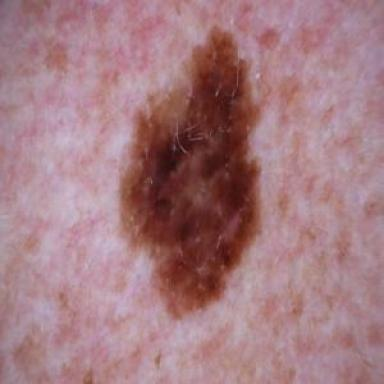Melanoma: (122, 28, 260, 318)
